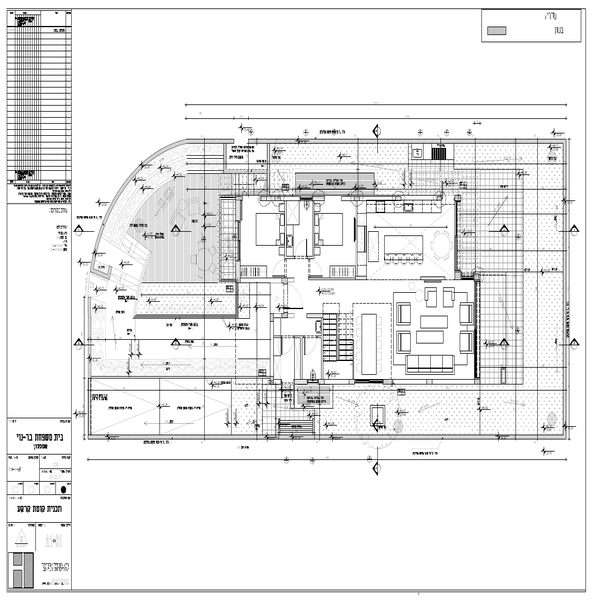room: (347, 279, 485, 394), (235, 187, 359, 281), (353, 188, 462, 278)
